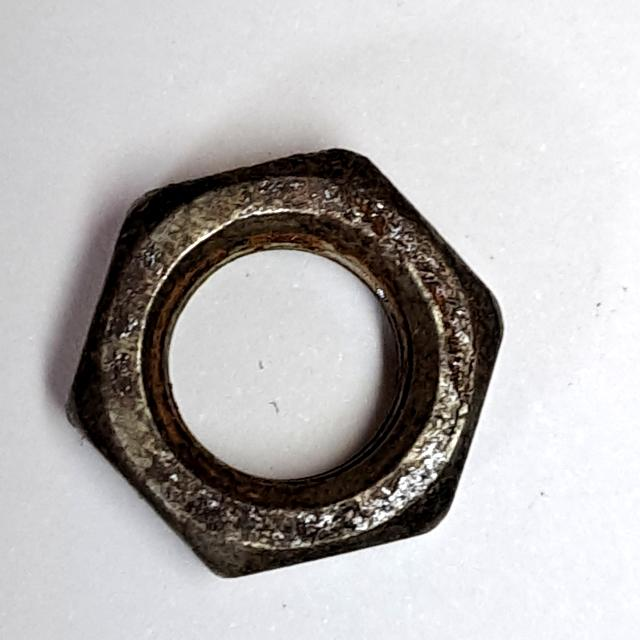Rust: (53, 134, 511, 590)
